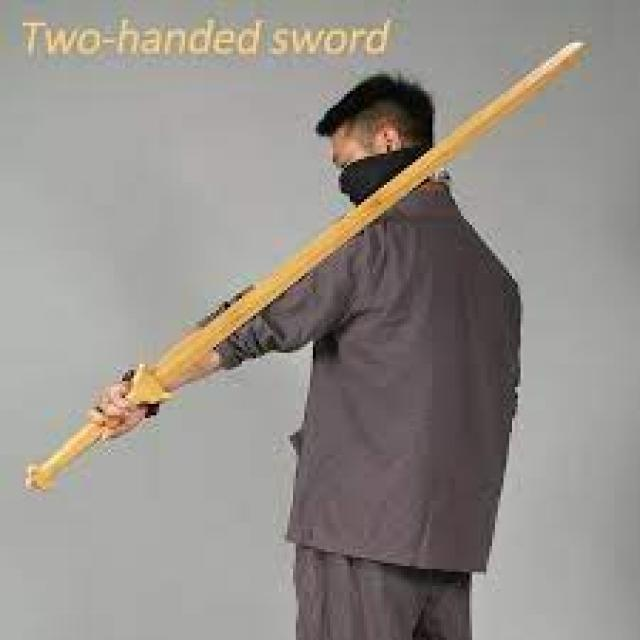long sword: (32, 38, 584, 496)
